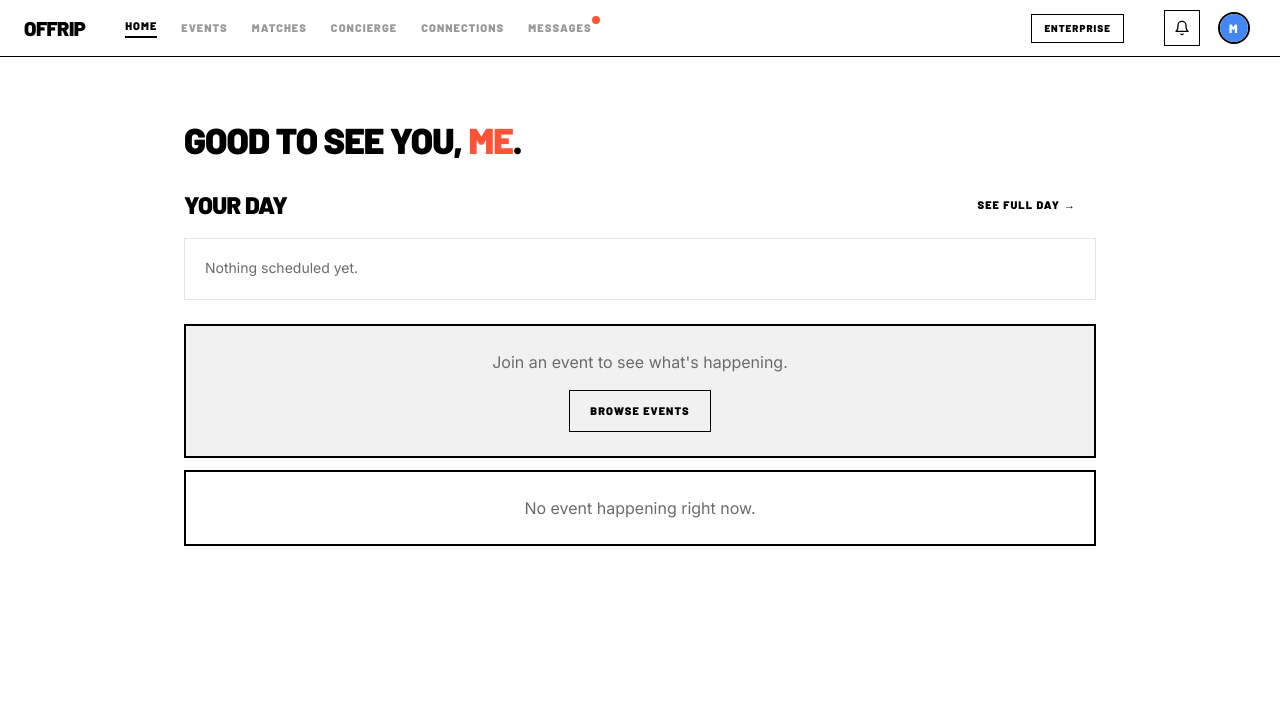
Connections tab — archive / unarchive › a pre-archived connection loads straight into the Archived view and unarchives back
The image size is (1280, 720).
Click the button "Connections": (463, 28) x1=421 y1=20 x2=504 y2=36
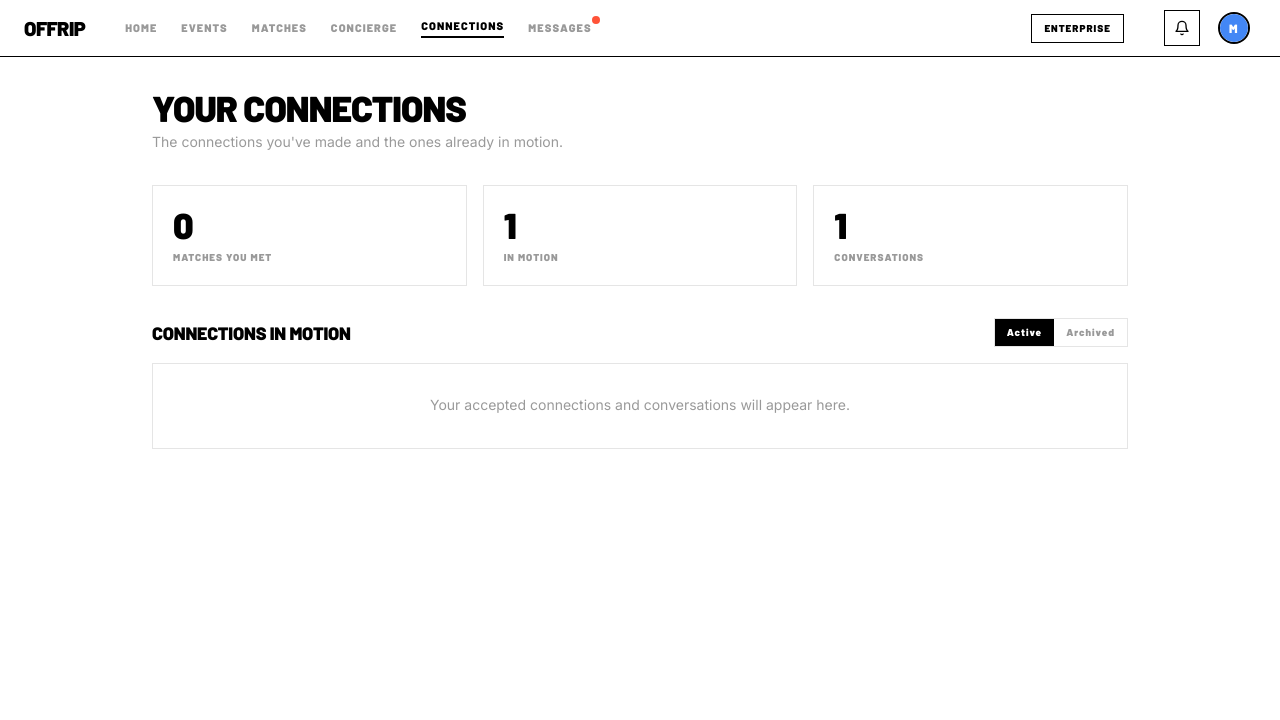
Expected: the text "Riley Other" is not shown
Expected: the text "Your accepted connections" is shown, x1=430 y1=397 x2=850 y2=414
…but in Archived.
Click the button "archived": (1091, 332) x1=1054 y1=319 x2=1127 y2=346
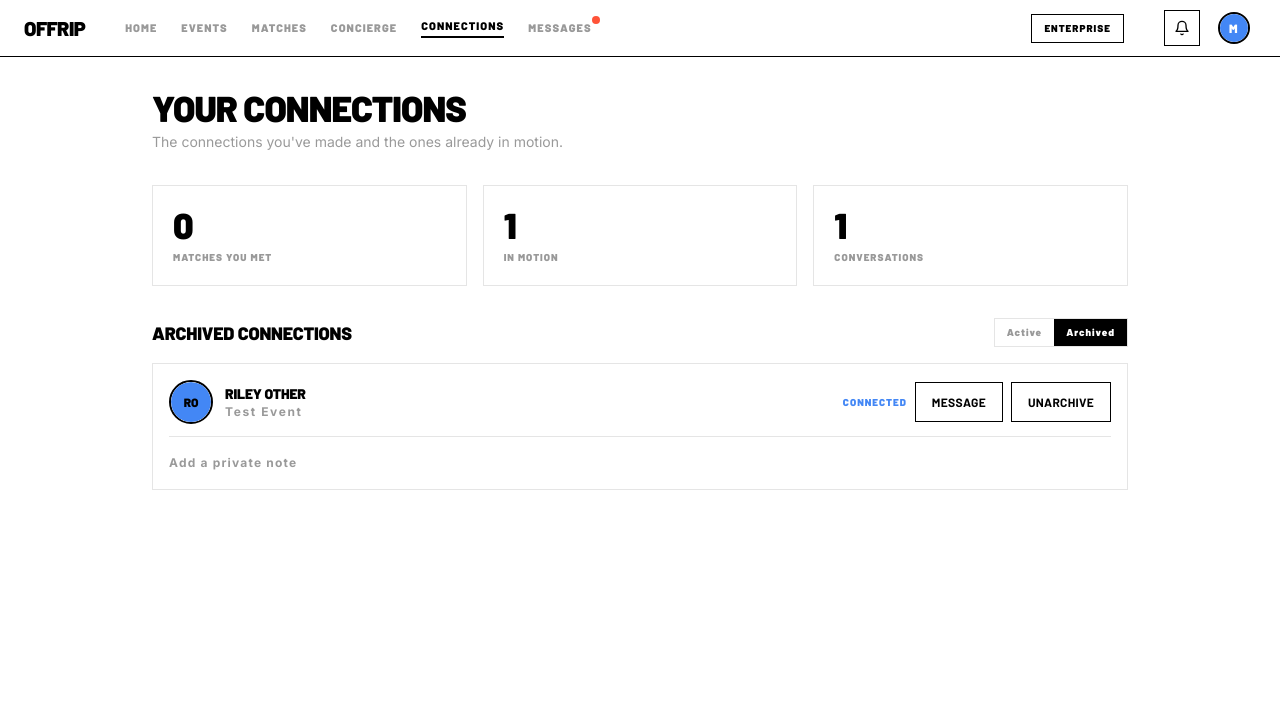
Expected: the text "Riley Other" is shown, x1=225 y1=385 x2=306 y2=402
Click the button "Unarchive": (1061, 402) x1=1011 y1=382 x2=1111 y2=422
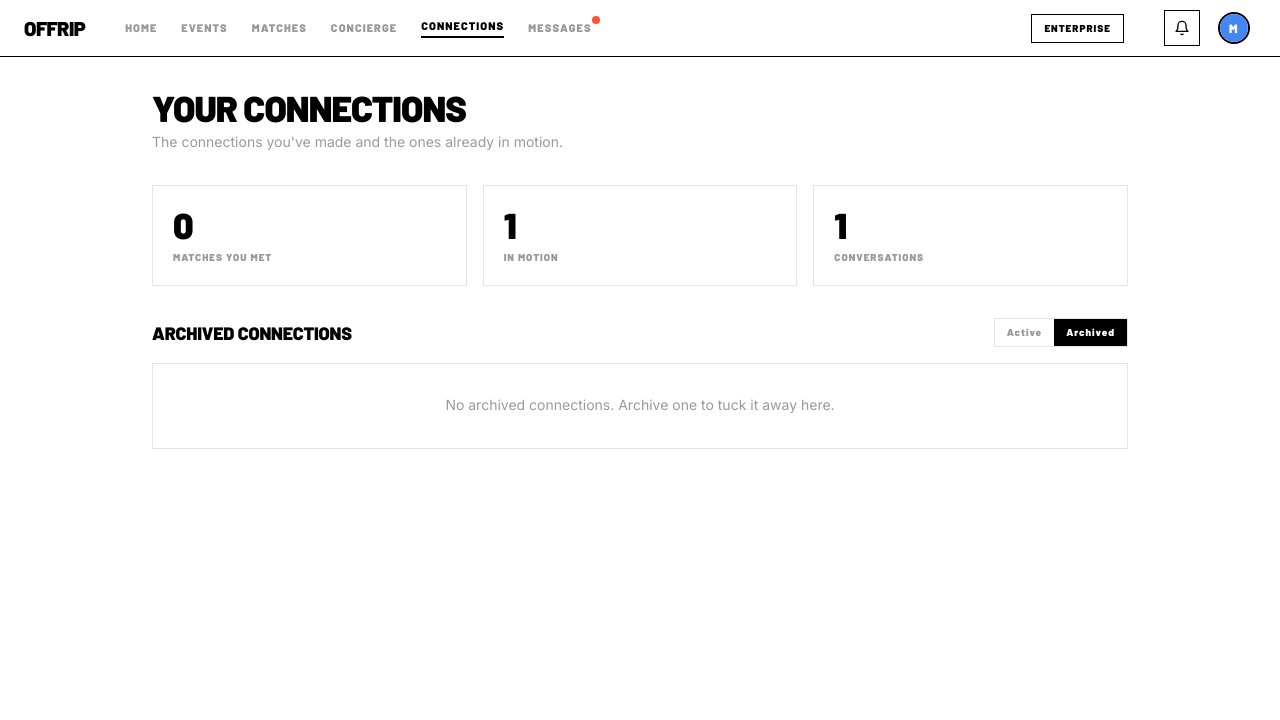
Expected: the button "Riley Other" is gone
Click the button "active": (1024, 332) x1=995 y1=319 x2=1054 y2=346
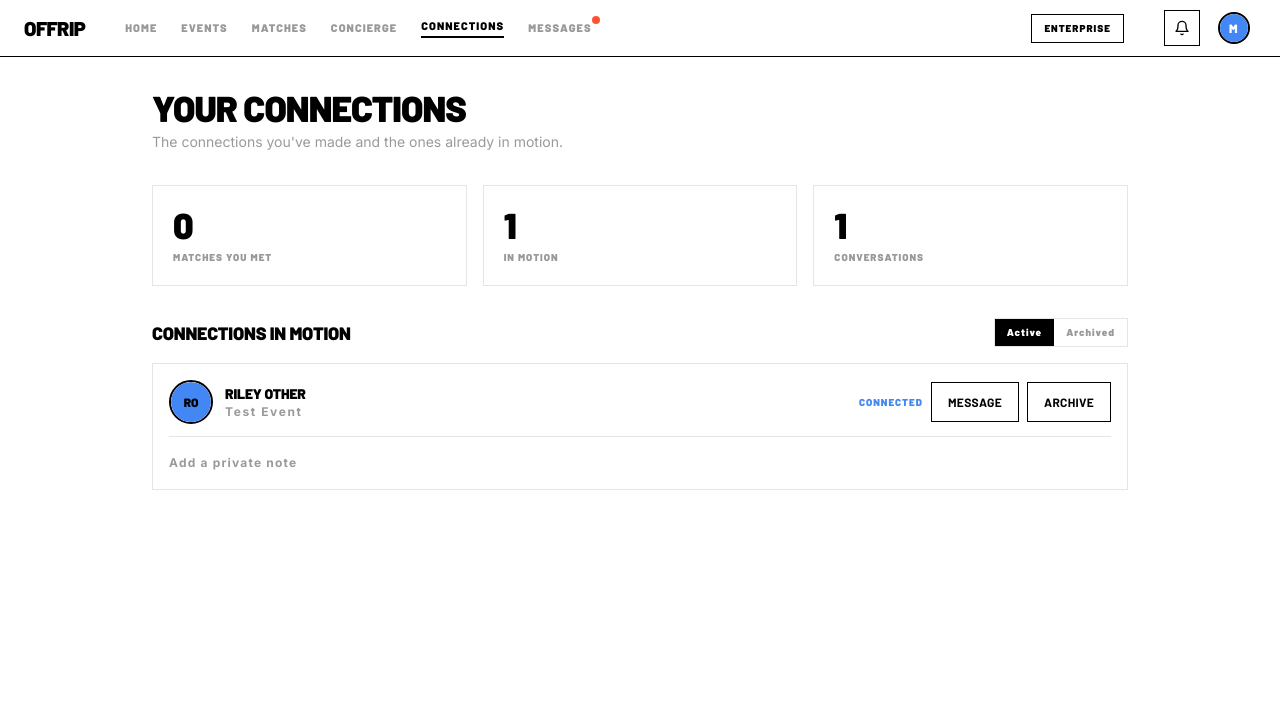
Expected: the text "Riley Other" is shown, x1=225 y1=385 x2=306 y2=402
